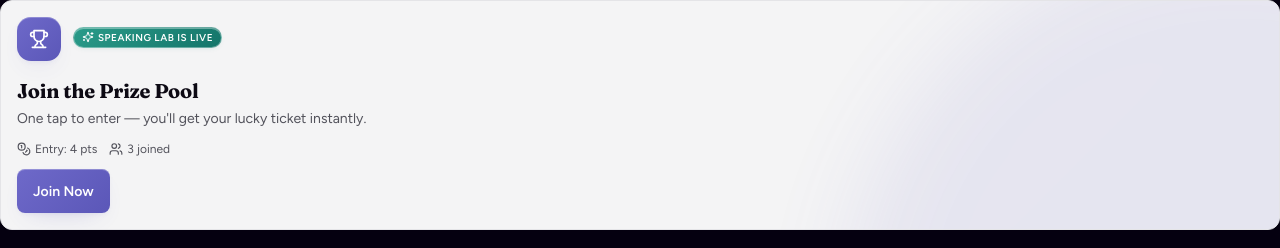
Scenario: SpeakingLabLiveCard — one-tap live card › one tap joins and shows the Lucky Code immediately
The width and height of the screenshot is (1280, 248).
Click the button with test id "speaking-lab-join-now".
click(63, 191)  # box [17,169,110,213]
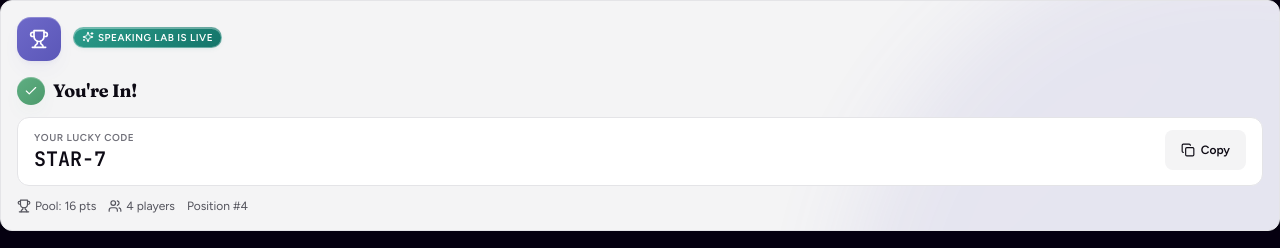
Now the text with test id "speaking-lab-live-code" reads "STAR-7", box [34,146,106,172]
Now the heading "You're In!" is shown, box [53,77,137,105]
